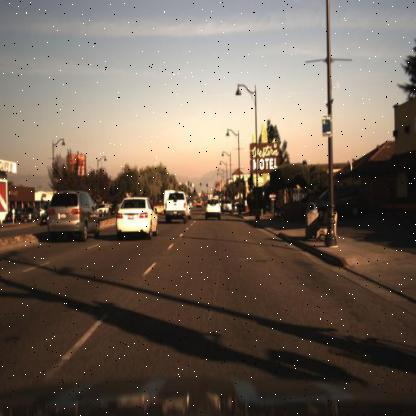car: (50, 188, 100, 240), (115, 190, 157, 242), (312, 187, 367, 215), (163, 188, 190, 226), (204, 193, 223, 217), (180, 188, 194, 218), (21, 207, 39, 222)
